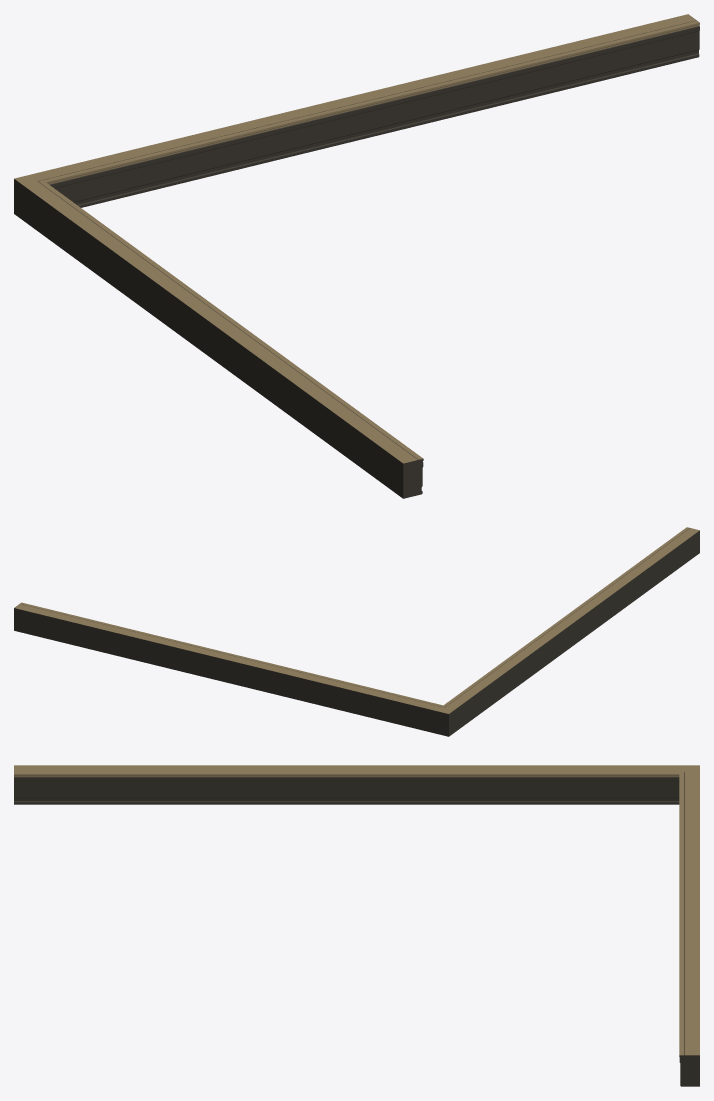
Rendered from mall-floor-inside-mitre-2m-lod2.glb.
3 renders of one model, top to bottom at view 1: azimuth 30°, elevation 25°; view 2: azimuth 150°, elevation 25°; view 3: azimuth 270°, elevation 25°, orthographic. The views are drawn at different scales.
Visible parts, largest first — view 1: Welded inside mitre LOD2; view 2: Welded inside mitre LOD2; view 3: Welded inside mitre LOD2.
Boxes of the visible parts, x1,y1,x2,y2 form: Welded inside mitre LOD2: (14,14,699,498); Welded inside mitre LOD2: (14,527,699,736); Welded inside mitre LOD2: (14,765,699,1086).
Bounding box in the file's own units: 2 × 0.1 × 2.
